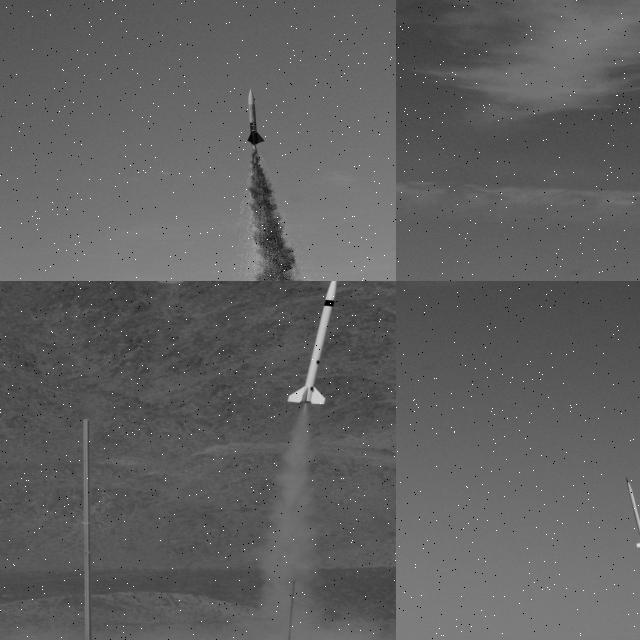Rocket: (287, 281, 337, 405), (625, 475, 640, 548), (248, 88, 266, 145)
